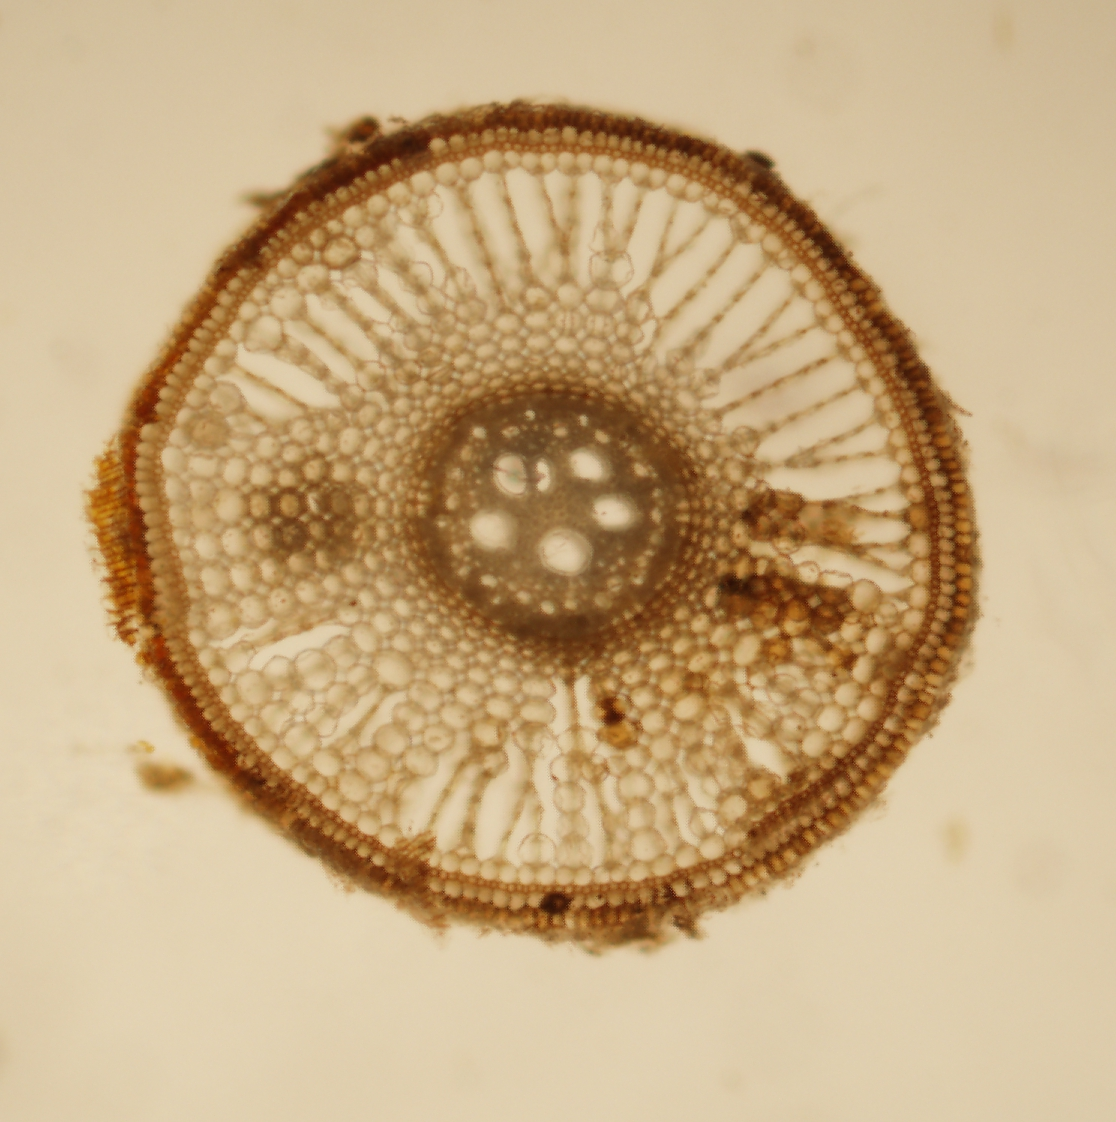lm: (536, 526, 593, 575), (491, 452, 554, 496), (468, 507, 520, 552), (591, 493, 637, 530), (567, 445, 610, 483)
